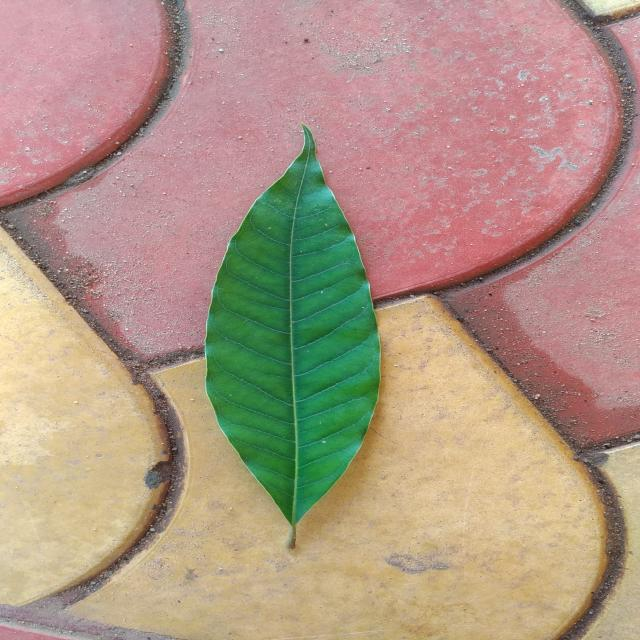coffee: (204, 126, 380, 528)
